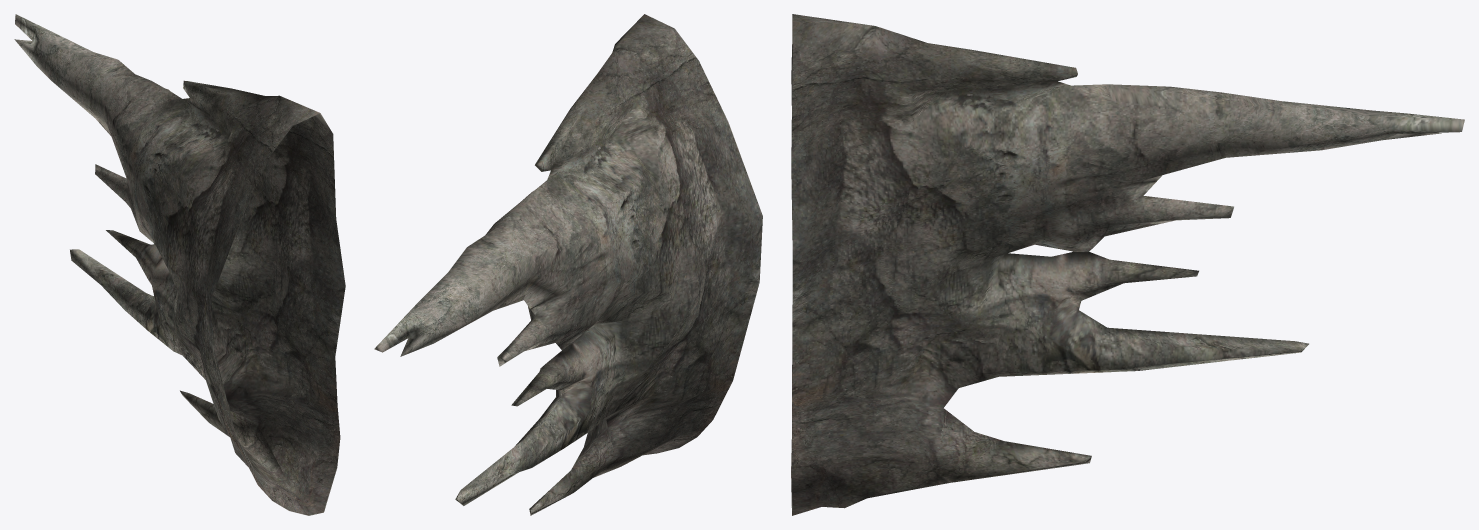
Rendered from tdr_h_stal_a.obj.
The picture shows the model from 3 angles, left to right: view 1: azimuth 30°, elevation 25°; view 2: azimuth 150°, elevation 25°; view 3: azimuth 270°, elevation 25°; orthographic projection. The views are drawn at different scales.
Visible parts, largest first — view 1: tdr_h_stal_a; view 2: tdr_h_stal_a; view 3: tdr_h_stal_a.
Boxes of the visible parts, <box> form: tdr_h_stal_a: <box>14,14,345,515</box>; tdr_h_stal_a: <box>374,14,762,515</box>; tdr_h_stal_a: <box>791,14,1464,515</box>.
Size of the model in its own units: 369 by 1053 by 1309.
Materials: 1 (1 with a texture image).
